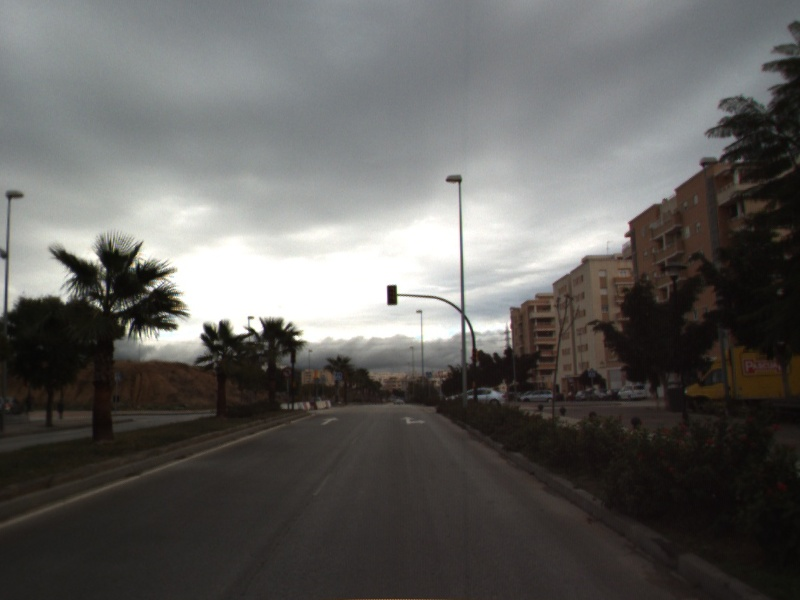STRAIGHT: (319, 414, 341, 427)
STRAIGHT_RIGHT: (398, 414, 428, 426)
